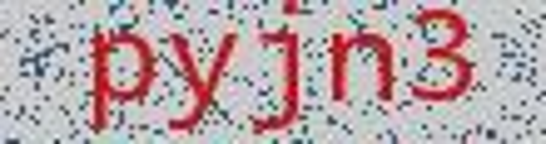3: (406, 5, 484, 107)
j: (247, 2, 317, 137)
n: (324, 26, 400, 119)
p: (80, 24, 157, 133)
y: (162, 25, 241, 140)
